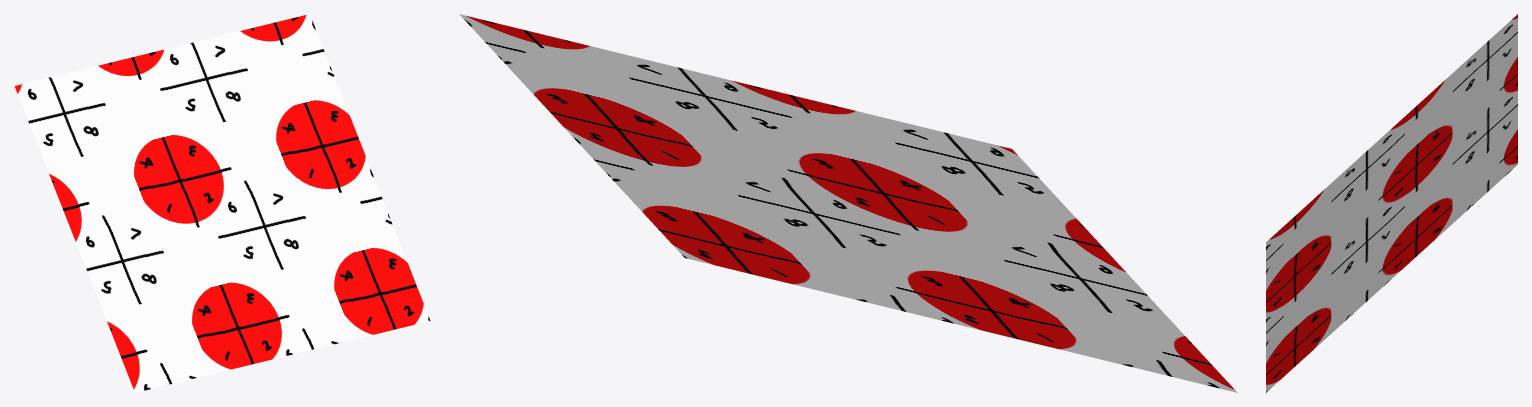
File: BallPlain.fbx
3 views of the same model, side by side, from view 1: azimuth 30°, elevation 25°; view 2: azimuth 150°, elevation 25°; view 3: azimuth 270°, elevation 25° (orthographic). The views are drawn at different scales.
Parts seen in each view (by area): view 1: pPlane1; view 2: pPlane1; view 3: pPlane1.
Part boxes in pixels (x1,y1,x2,y2): pPlane1: [14, 14, 430, 392]; pPlane1: [459, 14, 1237, 392]; pPlane1: [1266, 14, 1517, 392].
Bounding box in the file's own units: 1 × 0.7071 × 0.7071.
Materials: 1 (1 with a texture image).
